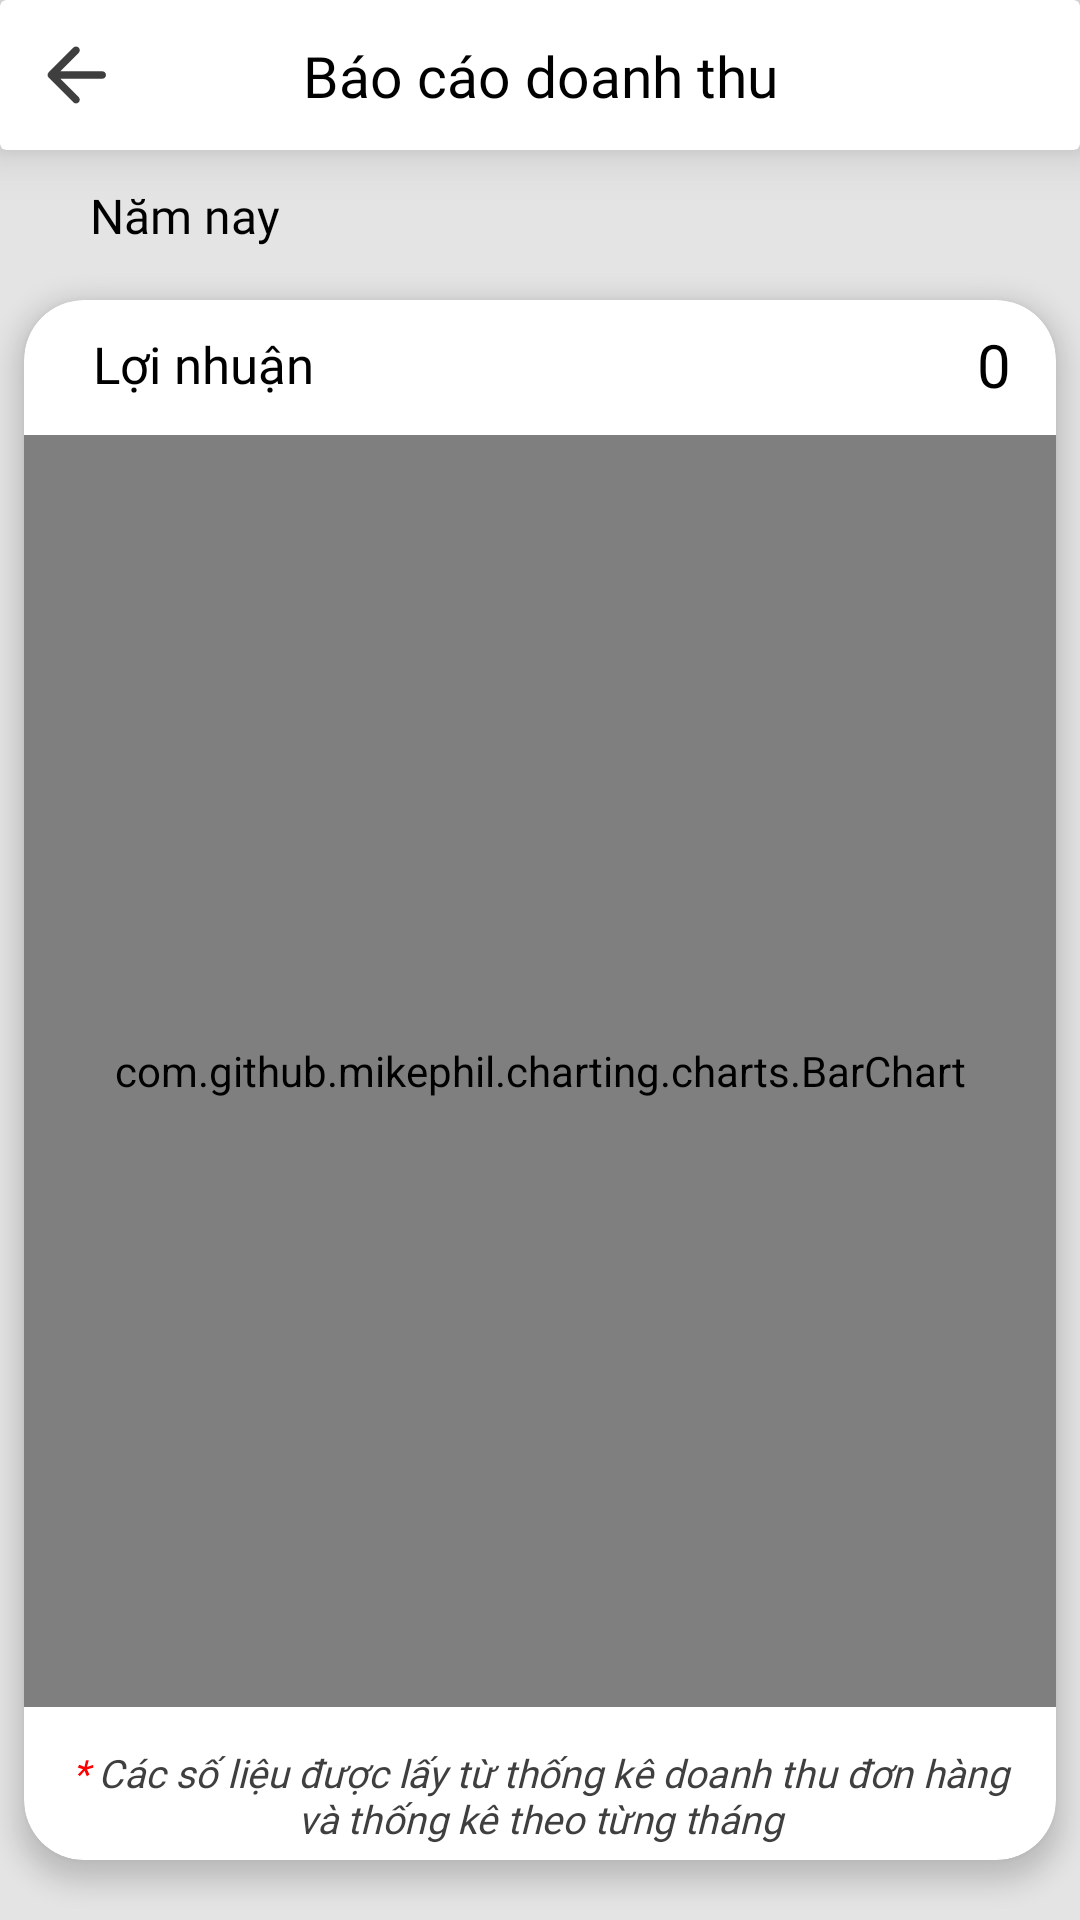

Where to tap for icons on this 1080*1920 app screen, as point (x, y):
arrow back: point (76, 75)
